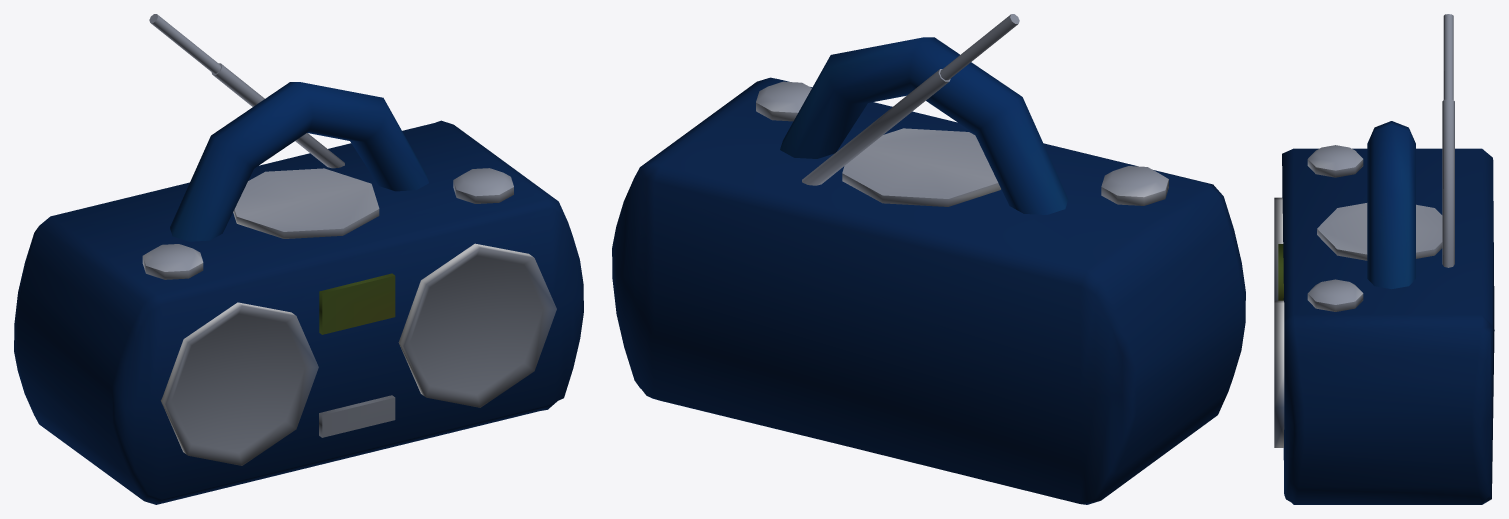
File: Boombox.fbx
The picture shows the model from 3 angles, left to right: view 1: azimuth 30°, elevation 25°; view 2: azimuth 150°, elevation 25°; view 3: azimuth 270°, elevation 25°; orthographic projection. The views are drawn at different scales.
Visible parts, largest first — view 1: Boombox; view 2: Boombox; view 3: Boombox.
Part boxes in pixels (x1,y1,x2,y2): Boombox: (14, 14, 583, 504); Boombox: (612, 14, 1245, 504); Boombox: (1274, 14, 1494, 504).
Size of the model in its own units: 46.05 by 38.17 by 21.16.
